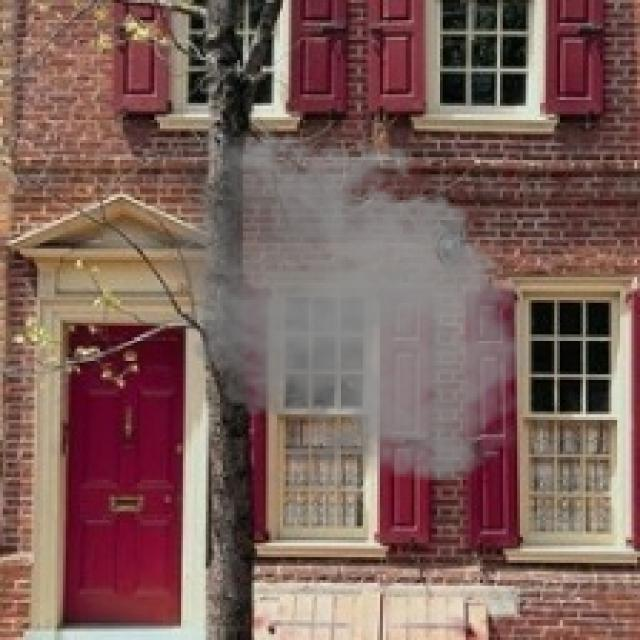smoke: (140, 120, 543, 489)
